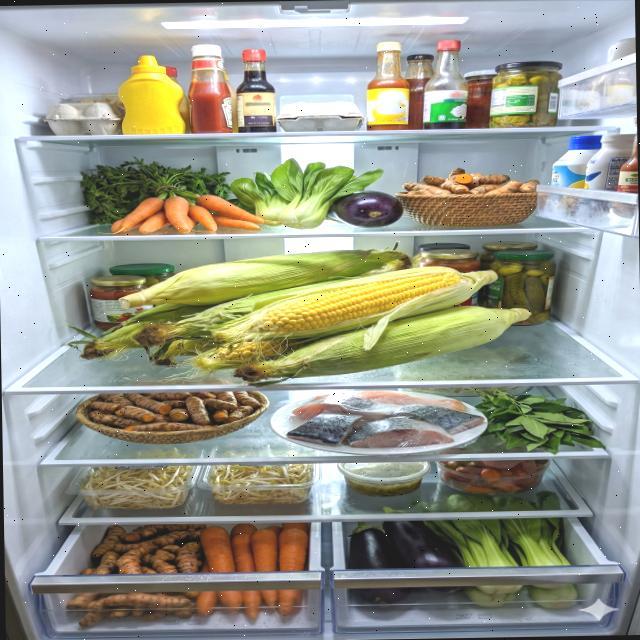bean_sprouts: (78, 464, 196, 511), (208, 463, 316, 505)
carrot: (194, 522, 310, 620), (110, 193, 266, 234)
corn: (76, 245, 532, 384)
curry_leaves: (472, 386, 606, 456)
egg: (274, 100, 366, 132), (41, 102, 122, 136)
eggplant: (347, 518, 467, 570), (326, 189, 404, 228)
fish: (284, 388, 486, 449)
pakchoy: (410, 489, 578, 612), (229, 156, 385, 230)
turmeric: (87, 390, 262, 433), (401, 166, 540, 196)
